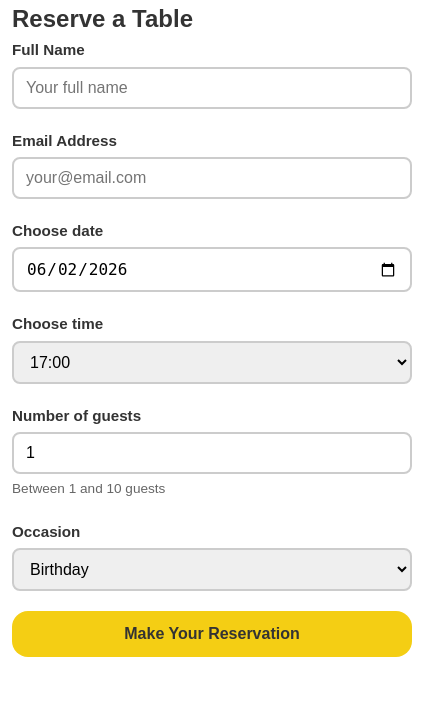
Scenario: Shows validation error for invalid email
This screenshot has width=429, height=726.
Type "invalid-email" into the field labelled "Email Address".
click(212, 178); type("invalid-email")  # box [12,157,412,199]
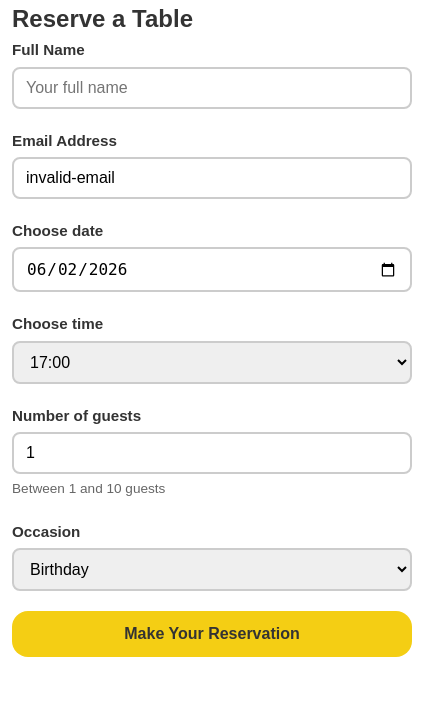
Click the button with aria-label "submit table reservation".
click(212, 634)  # box [12,611,412,657]
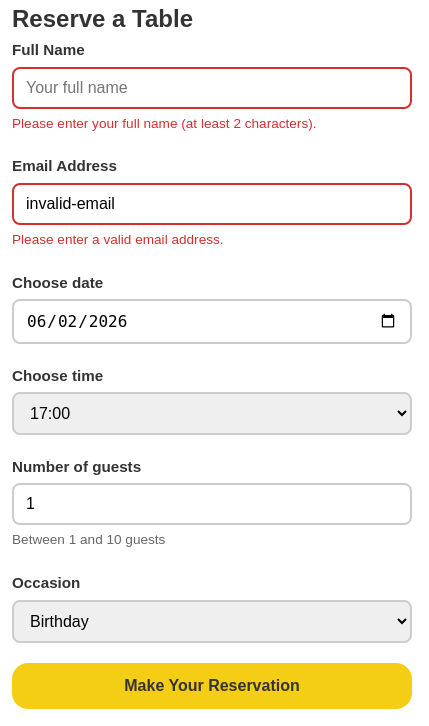
Result: the text "Please enter a valid email address." is shown at [12,232,224,247]
